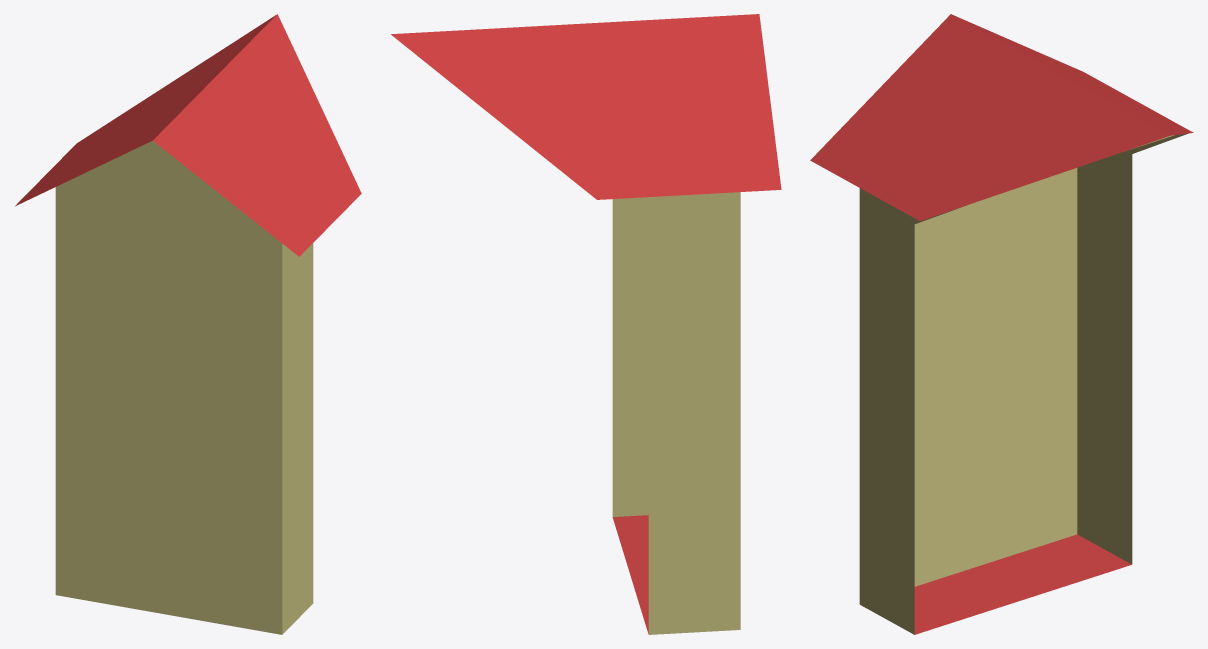
The picture shows the model from 3 angles, left to right: view 1: azimuth 30°, elevation 25°; view 2: azimuth 150°, elevation 25°; view 3: azimuth 270°, elevation 25°; orthographic projection. The views are drawn at different scales.
Bounding box in the file's own units: 8.24 × 8.12 × 12.66.
